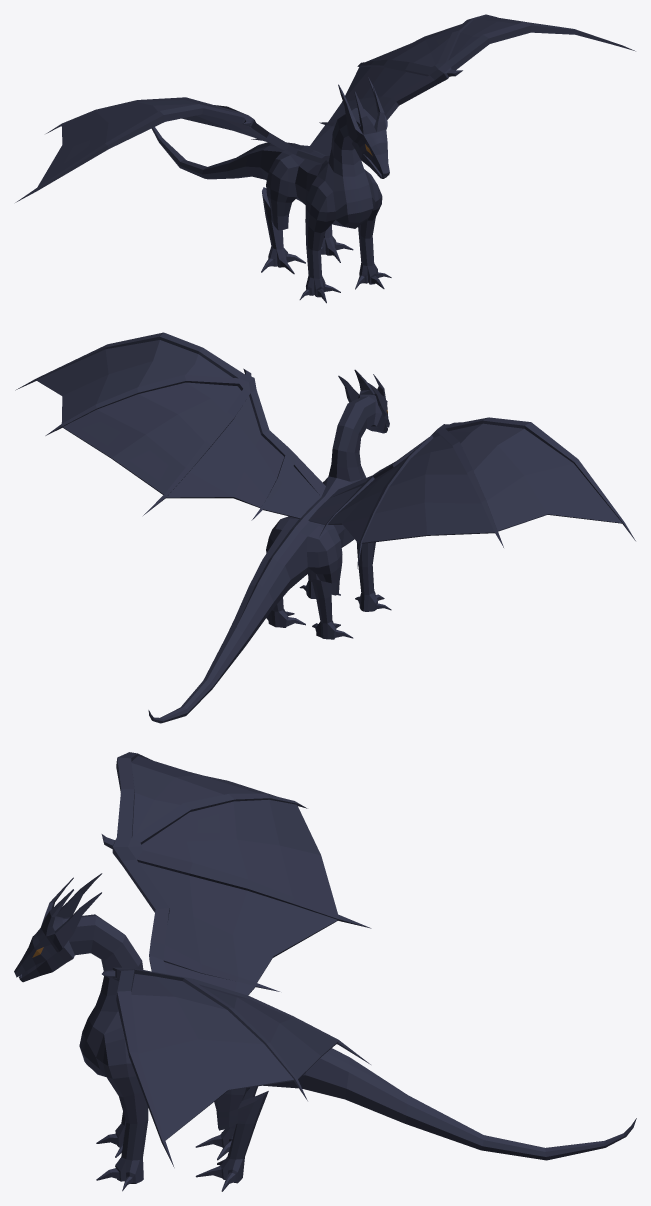
Rendered from enemy_dragon.fbx.
The picture shows the model from 3 angles, top to bottom: view 1: azimuth 30°, elevation 25°; view 2: azimuth 150°, elevation 25°; view 3: azimuth 270°, elevation 25°; orthographic projection. The views are drawn at different scales.
Visible parts, largest first — view 1: enemy_dragon; view 2: enemy_dragon; view 3: enemy_dragon.
Part boxes in pixels (<box>): enemy_dragon: <box>15,14,635,303</box>; enemy_dragon: <box>15,332,635,723</box>; enemy_dragon: <box>14,752,636,1191</box>.
Bounding box in the file's own units: 1228 × 415 × 815.
